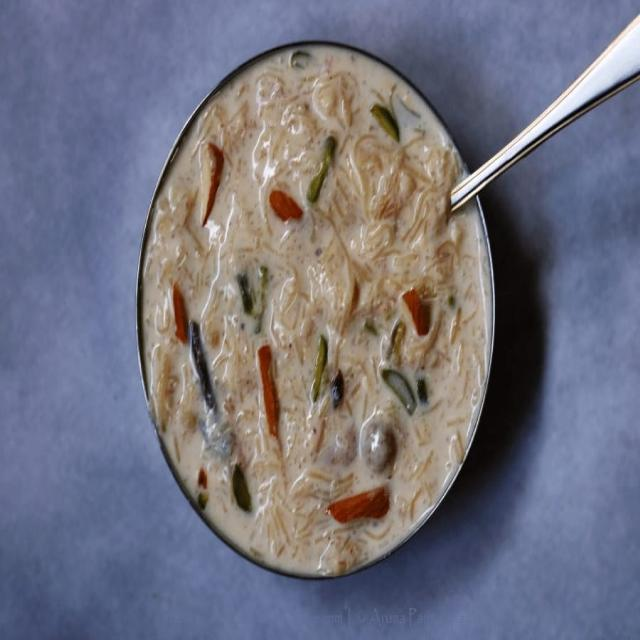shavige payasa: (132, 30, 506, 588)
